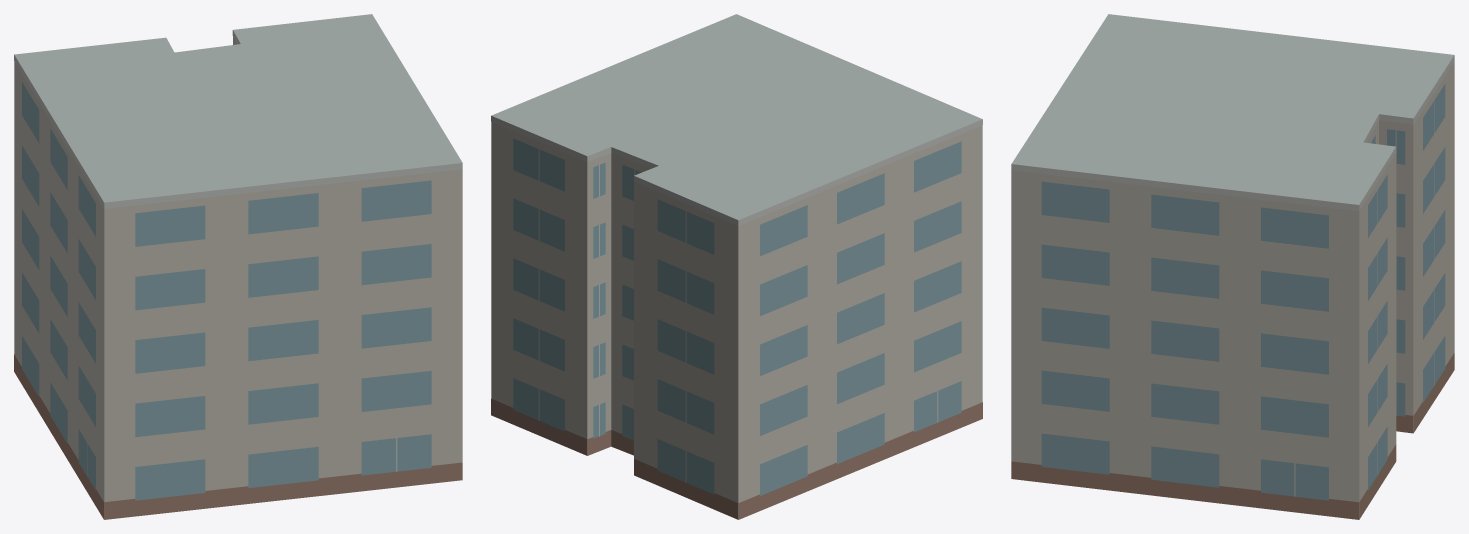
File: survey-upis-32832026.glb
3 renders of one model, left to right at view 1: azimuth 30°, elevation 25°; view 2: azimuth 150°, elevation 25°; view 3: azimuth 270°, elevation 25°, orthographic. The views are drawn at different scales.
Visible parts, largest first — view 1: survey-upis-32832026.tmp; view 2: survey-upis-32832026.tmp; view 3: survey-upis-32832026.tmp.
Part boxes in pixels (x1,y1,x2,y2): survey-upis-32832026.tmp: (14, 14, 462, 519); survey-upis-32832026.tmp: (491, 14, 982, 519); survey-upis-32832026.tmp: (1011, 14, 1454, 519).
Bounding box in the file's own units: 16.14 × 12.4 × 15.83.
